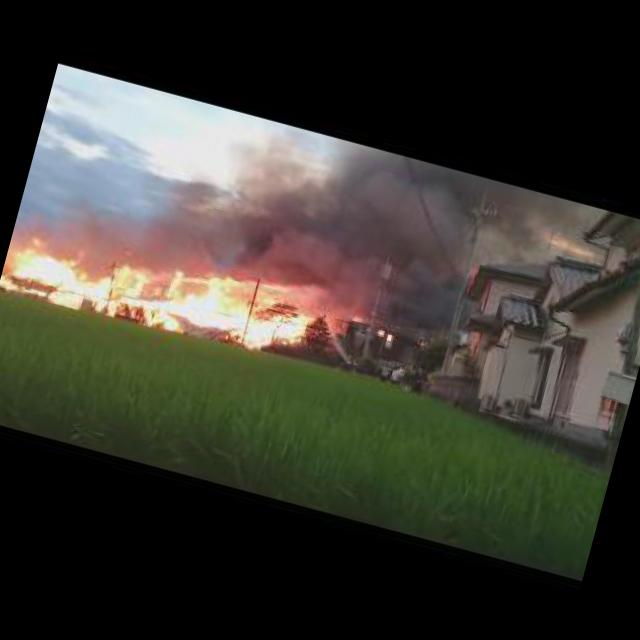fire: (0, 224, 312, 374), (420, 339, 428, 346)
smoke: (49, 72, 533, 348)
